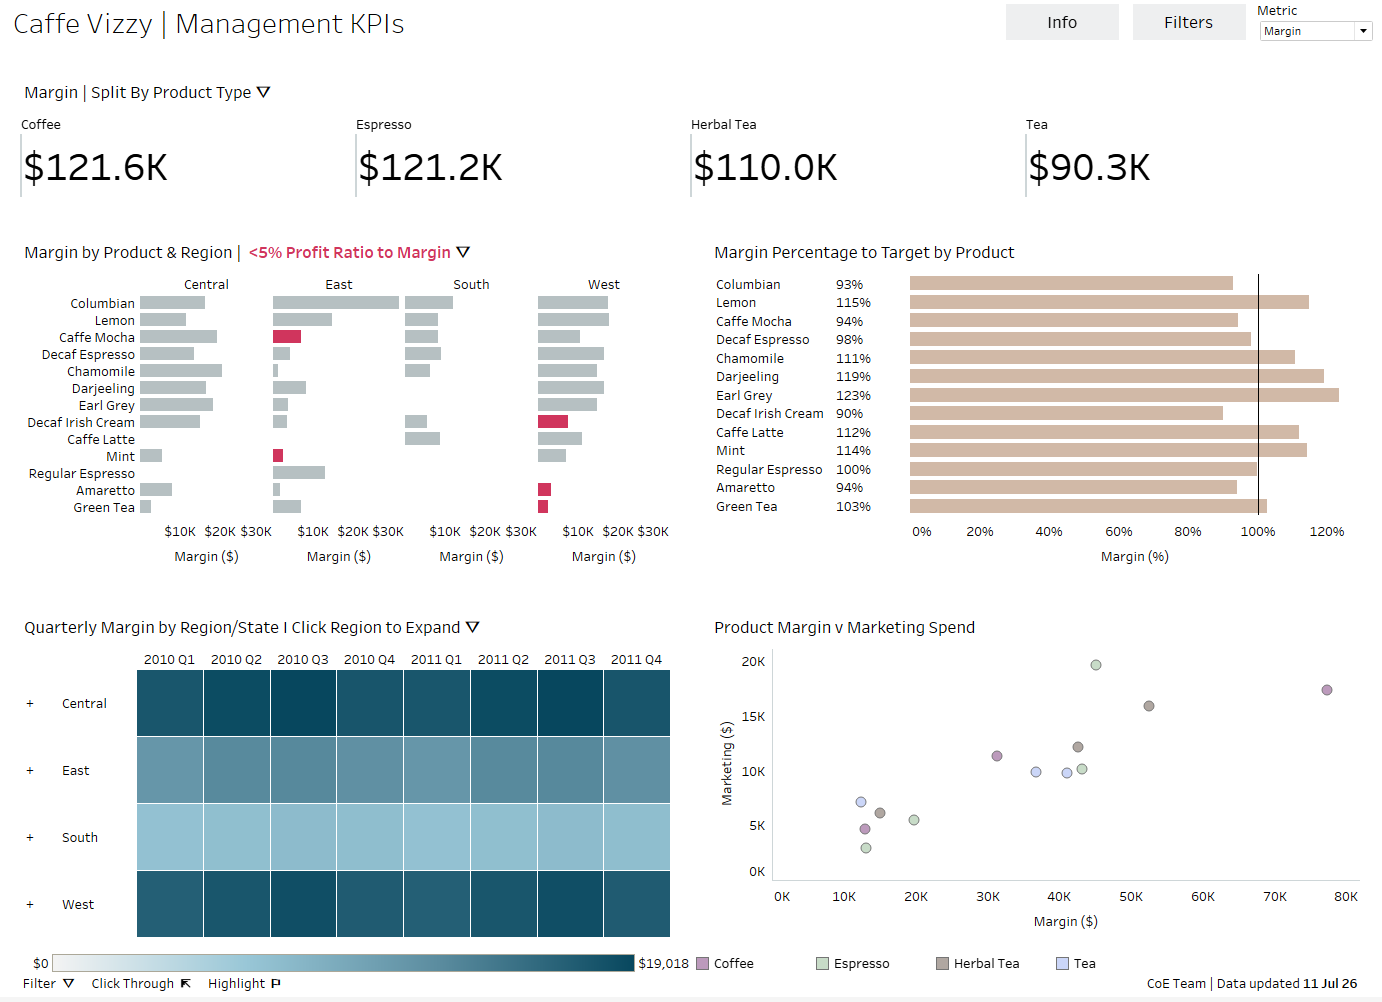

Layout of this report page (visuals, bound fields, positions):
{"tool":"tableau","page":{"name":"Caffe Vizzy","canvas":[1400,1100],"ordinal":0},"visuals":[{"type":"text","box":[0,0,625,50]},{"type":"blank","box":[625,0,128,50]},{"type":"blank","box":[753,0,128,50]},{"type":"blank","box":[881,0,128,50]},{"type":"worksheet","title":"Info Button Blank","mark":"Square","box":[1009,0,127,50]},{"type":"dashboard-object","box":[1136,0,127,50]},{"type":"parameter","param":"[Parameters].[Max D (copy)]","box":[1263,0,127,50]},{"type":"worksheet","title":"Capstone BANs","mark":"GanttBar","cols":["Product Type"],"box":[0,50,1400,170]},{"type":"text","box":[1150,70.1,250,44]},{"type":"text","box":[1150,114.1,250,77]},{"type":"text","box":[1150,206.2,250,88]},{"type":"worksheet","title":"Top Left: Metric by Region","mark":"Bar","rows":["Product"],"cols":["Market","Calculation_418553335552200710"],"box":[0,220,700,425]},{"type":"worksheet","title":"Top Right: Percentage to Target","mark":"Bar","rows":["Product","Calculation_994732613224660992"],"cols":["Calculation_994732613224660992"],"box":[700,220,700,425]},{"type":"worksheet","title":"Bottom Left: Quarterly Performance","mark":"Square","rows":["Market","Region Set Label (copy)_2552133682206523392","Calculation_1391330857898287104"],"cols":["Calculation_418553335537815553"],"box":[0,645,700,425]},{"type":"worksheet","title":"Bottom Right: Marketing Spend","mark":"Circle","rows":["Marketing"],"cols":["Calculation_418553335552200710"],"box":[700,645,700,425]},{"type":"blank","box":[0,1070,1400,1]},{"type":"text","box":[0,1071,438,29]},{"type":"text","box":[438,1071,962,29]}]}

Visuals, with their boxes on the page's 1400x1100 design canvas (x1, y1, x2, y2). These are canvas units, not pixel positions in the 1382x1002 screenshot, which may show the page scaled, cropped or inside an application window:
text: (left=0, top=0, right=625, bottom=50)
blank: (left=625, top=0, right=753, bottom=50)
blank: (left=753, top=0, right=881, bottom=50)
blank: (left=881, top=0, right=1009, bottom=50)
"Info Button Blank" worksheet (Square marks): (left=1009, top=0, right=1136, bottom=50)
dashboard-object: (left=1136, top=0, right=1263, bottom=50)
parameter: (left=1263, top=0, right=1390, bottom=50)
"Capstone BANs" worksheet (GanttBar marks): (left=0, top=50, right=1400, bottom=220)
text: (left=1150, top=70, right=1400, bottom=114)
text: (left=1150, top=114, right=1400, bottom=191)
text: (left=1150, top=206, right=1400, bottom=294)
"Top Left: Metric by Region" worksheet (Bar marks): (left=0, top=220, right=700, bottom=645)
"Top Right: Percentage to Target" worksheet (Bar marks): (left=700, top=220, right=1400, bottom=645)
"Bottom Left: Quarterly Performance" worksheet (Square marks): (left=0, top=645, right=700, bottom=1070)
"Bottom Right: Marketing Spend" worksheet (Circle marks): (left=700, top=645, right=1400, bottom=1070)
blank: (left=0, top=1070, right=1400, bottom=1071)
text: (left=0, top=1071, right=438, bottom=1100)
text: (left=438, top=1071, right=1400, bottom=1100)
